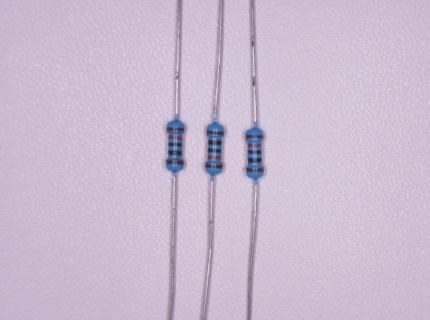Black band: (168, 142, 182, 147), (248, 158, 262, 163), (208, 140, 221, 145), (248, 150, 261, 155), (169, 150, 181, 155), (208, 149, 221, 153)
Brown band: (166, 160, 183, 165), (206, 164, 223, 169), (167, 127, 184, 131), (207, 131, 224, 135), (246, 135, 263, 139), (247, 168, 263, 172)
Orange band: (169, 135, 182, 140), (208, 156, 221, 160), (248, 143, 261, 147)
